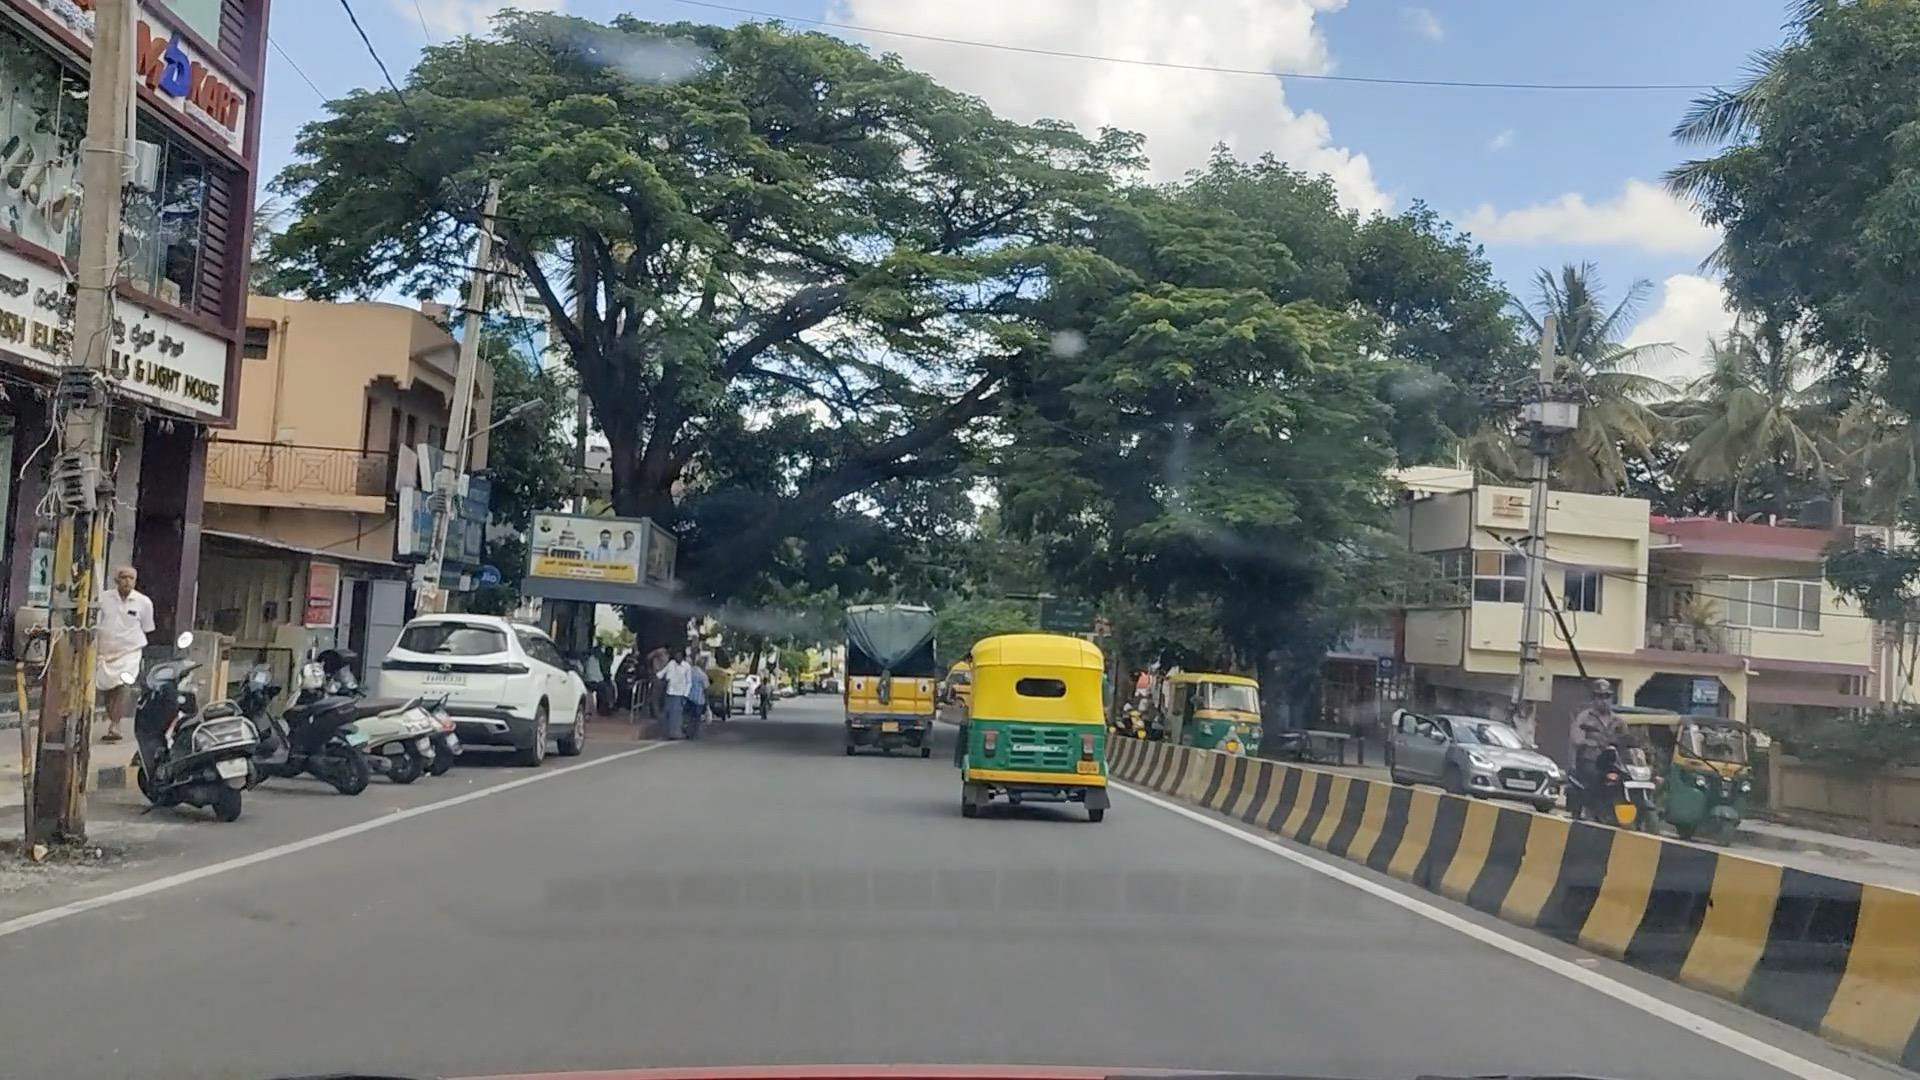HMV: (845, 592, 935, 750)
LMV: (972, 645, 1102, 810)
